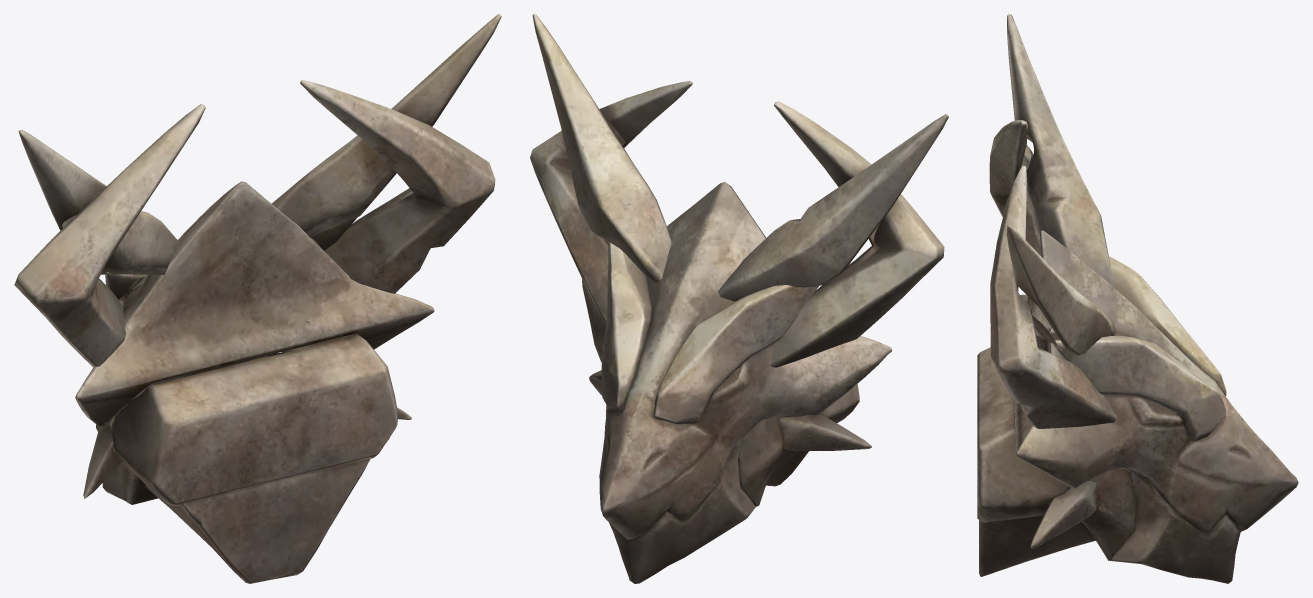
The picture shows the model from 3 angles, left to right: view 1: azimuth 30°, elevation 25°; view 2: azimuth 150°, elevation 25°; view 3: azimuth 270°, elevation 25°; orthographic projection. The views are drawn at different scales.
Parts seen in each view (by area): view 1: SM_Dec_Dragonkin_Wall_Face_01v5_LOD0; view 2: SM_Dec_Dragonkin_Wall_Face_01v5_LOD0; view 3: SM_Dec_Dragonkin_Wall_Face_01v5_LOD0.
Part boxes in pixels (x1=…): SM_Dec_Dragonkin_Wall_Face_01v5_LOD0: x1=14, y1=14, x2=501, y2=583; SM_Dec_Dragonkin_Wall_Face_01v5_LOD0: x1=530, y1=14, x2=948, y2=583; SM_Dec_Dragonkin_Wall_Face_01v5_LOD0: x1=977, y1=14, x2=1298, y2=583.
Bounding box in the file's own units: 1.48 × 1.51 × 0.9504.
Materials: 1 (1 with a texture image).
